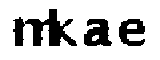a: (83, 16, 112, 49)
e: (119, 16, 149, 50)
k: (49, 6, 79, 51)
m: (8, 17, 54, 49)
